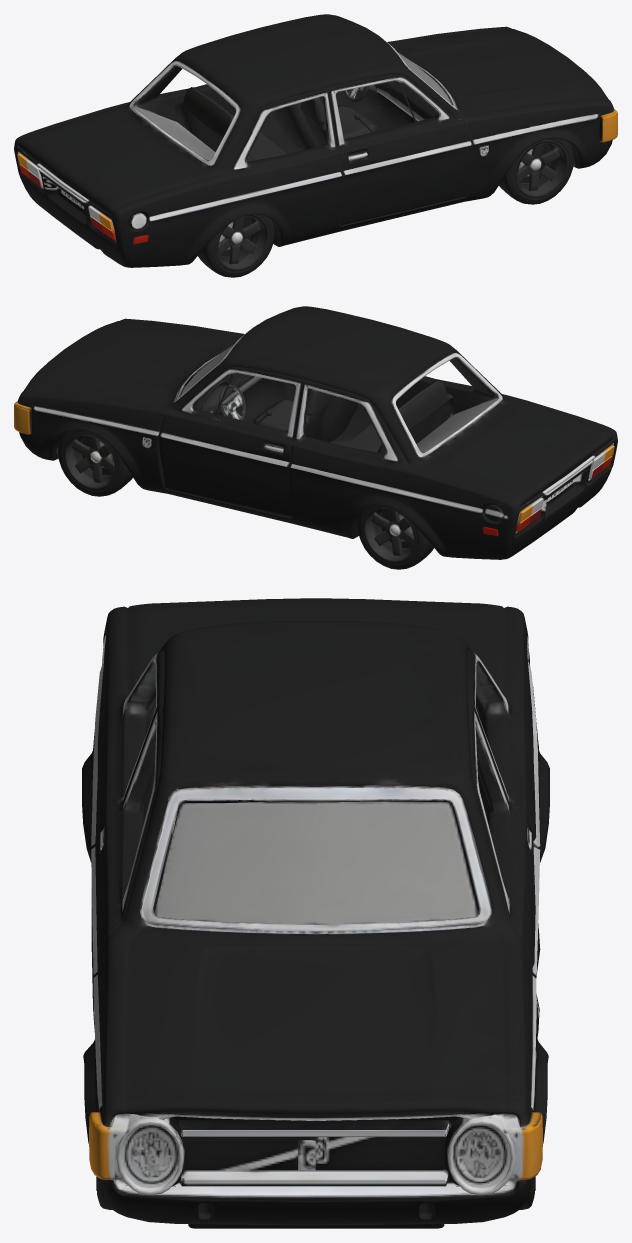
File: model_url.fbx
3 renders of one model, top to bottom at view 1: azimuth 30°, elevation 25°; view 2: azimuth 150°, elevation 25°; view 3: azimuth 270°, elevation 25°, orthographic. The views are drawn at different scales.
Parts seen in each view (by area): view 1: tripo_node_d5dc56bb; view 2: tripo_node_d5dc56bb; view 3: tripo_node_d5dc56bb.
Boxes of the visible parts, x1,y1,x2,y2 form: tripo_node_d5dc56bb: (14,14,617,277); tripo_node_d5dc56bb: (14,306,617,569); tripo_node_d5dc56bb: (82,598,549,1228).
Size of the model in its own units: 99.95 by 30.22 by 39.79.
1 material, 1 textured.
